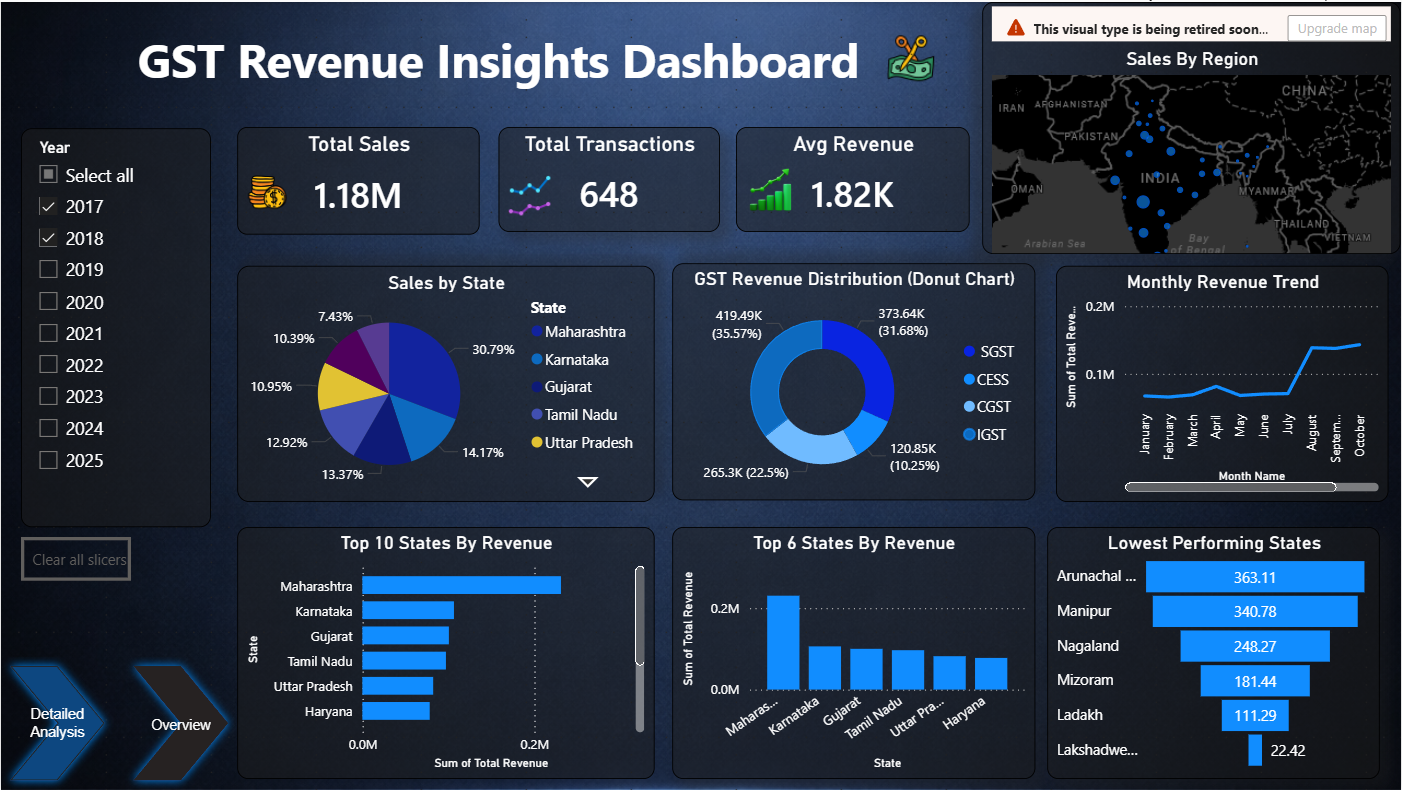

What the dashboard file says about the page in this screenshot:
{"tool":"powerbi","page":{"name":"Duplicate of Page 1","canvas":[1280,720],"ordinal":1},"visuals":[{"type":"cardVisual","title":"Total Sales","fields":{"Data":["tarungupta0927_17753816837849605.Total Sales"]},"box":[215.7,113.8,221.6,98.4],"z":0},{"type":"cardVisual","title":"Total Transactions","fields":{"Data":["tarungupta0927_17753816837849605.Total Transactions"]},"box":[454.9,114.3,202.3,96],"z":1000},{"type":"cardVisual","title":"Avg Revenue","fields":{"Data":["tarungupta0927_17753816837849605.Avg Revenue"]},"box":[672,114.3,213.7,96],"z":2000},{"type":"slicer","fields":{"Values":["tarungupta0927_17753816837849605.Year"]},"box":[18.3,115.4,173.7,364.6],"z":3000},{"type":"pieChart","title":"Sales by State","fields":{"Category":["tarungupta0927_17753816837849605.State"],"Y":["Sum(tarungupta0927_17753816837849605.Total Revenue)"]},"box":[215.7,240.6,381.5,215.7],"z":4000},{"type":"donutChart","title":"GST Revenue Distribution (Donut Chart)","fields":{"Y":["Sum(tarungupta0927_17753816837849605.SGST Revenue)","Sum(tarungupta0927_17753816837849605.Cess Revenue)","Sum(tarungupta0927_17753816837849605.CGST Revenue)","Sum(tarungupta0927_17753816837849605.IGST Revenue)"]},"box":[613.4,239.4,331.6,216.9],"z":5000},{"type":"map","title":"Sales By Region","fields":{"Category":["tarungupta0927_17753816837849605.State"],"Size":["Sum(tarungupta0927_17753816837849605.Total Revenue)"]},"box":[897.7,0,382.8,230.6],"z":6000},{"type":"clusteredBarChart","title":"Top 10 States By Revenue","fields":{"Category":["tarungupta0927_17753816837849605.State"],"Y":["Sum(tarungupta0927_17753816837849605.Total Revenue)"]},"box":[215.7,480,381.5,230.6],"z":7000},{"type":"clusteredColumnChart","title":"Top 6 States By Revenue","fields":{"Category":["tarungupta0927_17753816837849605.State"],"Y":["Sum(tarungupta0927_17753816837849605.Total Revenue)"]},"box":[613.4,480,331.6,230.6],"z":8000},{"type":"funnel","title":"Lowest Performing States","fields":{"Category":["tarungupta0927_17753816837849605.State"],"Y":["Sum(tarungupta0927_17753816837849605.Total Revenue)"]},"box":[956.3,480,304.2,230.6],"z":9000},{"type":"textbox","box":[51.5,18.1,807,66.8],"z":10000},{"type":"image","box":[224,146.3,38.9,53.7],"z":11000},{"type":"image","box":[681.1,146.3,44.6,51.4],"z":12000},{"type":"image","box":[454.9,154.3,57.1,45.7],"z":13000},{"type":"image","box":[788.6,26.3,86.9,50.3],"z":14000},{"type":"lineChart","title":"Monthly Revenue Trend","fields":{"Category":["tarungupta0927_17753816837849605.Month Name"],"Y":["Sum(tarungupta0927_17753816837849605.Total Revenue)"]},"box":[965,240.6,304.2,215.7],"z":14001},{"type":"bookmarkNavigator","box":[0,598.9,556.6,121.1],"z":14002},{"type":"actionButton","box":[18.3,489.1,100.6,40],"z":14003}]}

Visuals, with their boxes in screenshot pixels (x1, y1, x2, y2), scaled from the page's 1280x720 canvas onto the 1402x790 screenshot:
"Total Sales" cardVisual: (236,125,479,233)
"Total Transactions" cardVisual: (498,125,720,231)
"Avg Revenue" cardVisual: (736,125,970,231)
slicer - tarungupta0927_17753816837849605.Year: (20,127,210,527)
"Sales by State" pieChart: (236,264,654,501)
"GST Revenue Distribution (Donut Chart)" donutChart: (672,263,1035,501)
"Sales By Region" map: (983,0,1401,253)
"Top 10 States By Revenue" clusteredBarChart: (236,527,654,780)
"Top 6 States By Revenue" clusteredColumnChart: (672,527,1035,780)
"Lowest Performing States" funnel: (1047,527,1381,780)
textbox: (56,20,940,93)
image: (245,161,288,219)
image: (746,161,795,217)
image: (498,169,561,219)
image: (864,29,959,84)
"Monthly Revenue Trend" lineChart: (1057,264,1390,501)
bookmarkNavigator: (0,657,610,789)
actionButton: (20,537,130,581)
